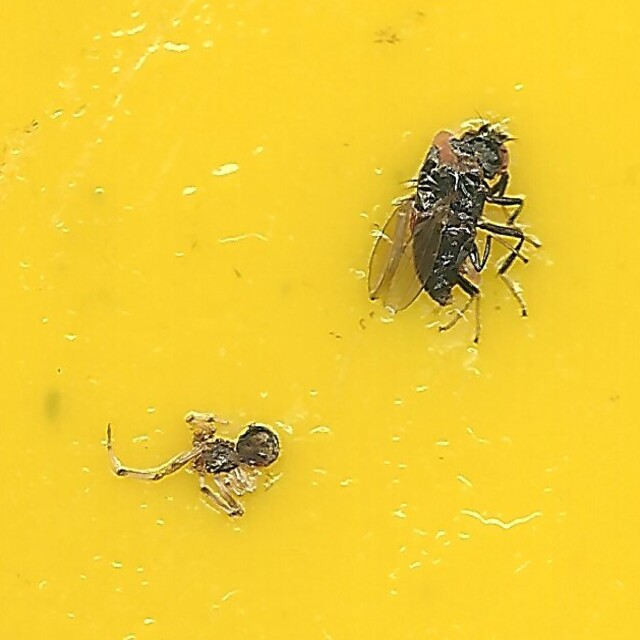Araneae: (102, 402, 284, 529)
Brachycera: (371, 111, 538, 341)
